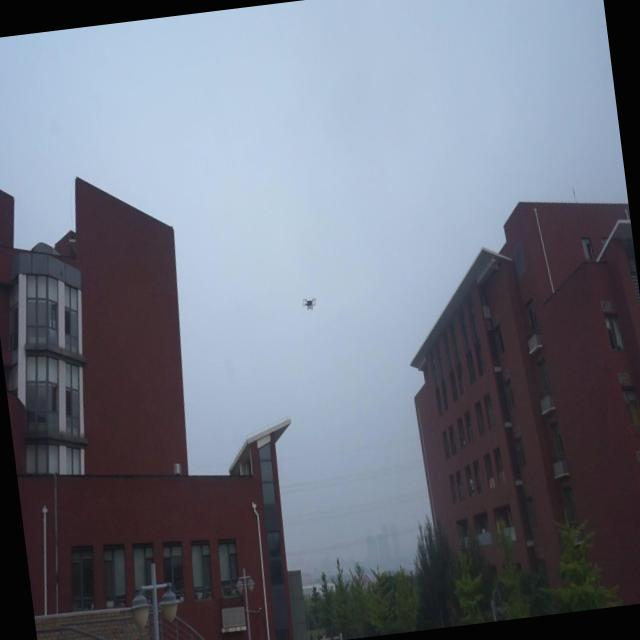drone: (298, 292, 320, 315)
